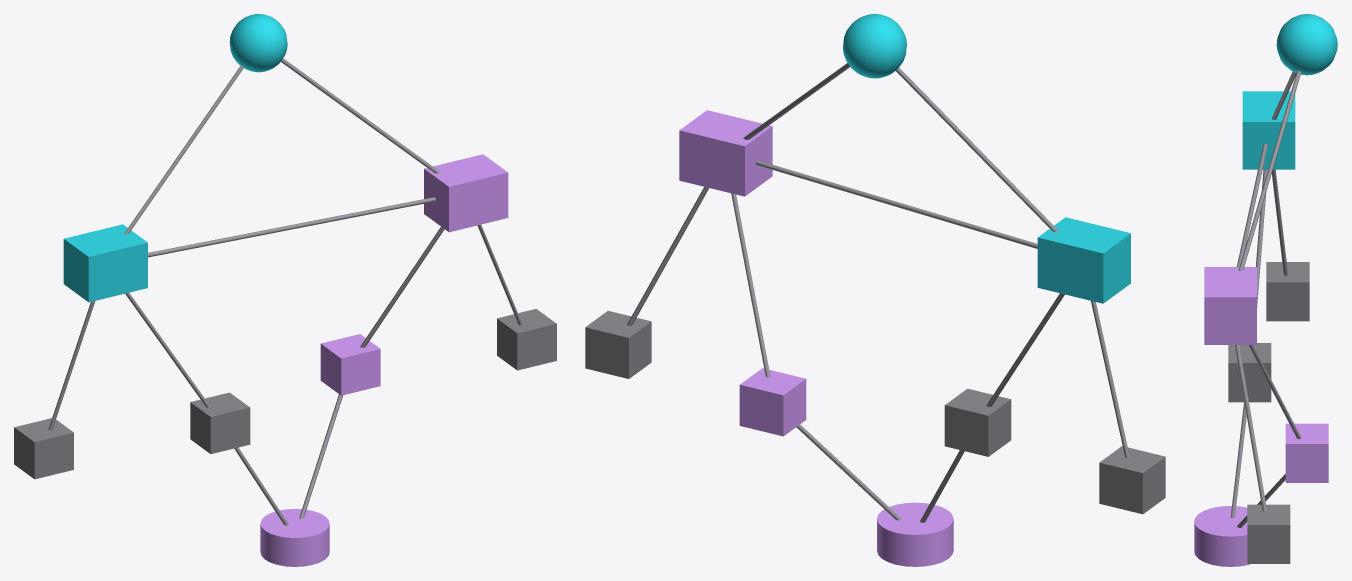
Rendered from topology.glb.
3 renders of one model, left to right at view 1: azimuth 30°, elevation 25°; view 2: azimuth 150°, elevation 25°; view 3: azimuth 270°, elevation 25°, orthographic. The views are drawn at different scales.
Parts seen in each view (by area): view 1: core-sw, hv-cluster, db, ubuntu, docker, vm-04, srv-ad, edge-fw, link-1-2, link-0-2, link-0-1, link-2-5; view 2: core-sw, hv-cluster, db, docker, ubuntu, vm-04, srv-ad, edge-fw, link-1-2, link-0-1, link-2-5, link-2-6 (+4 smaller); view 3: hv-cluster, core-sw, db, edge-fw, vm-04, srv-ad, docker, ubuntu, link-0-2, link-2-6, link-1-2, link-4-7 (+5 smaller).
Part boxes in pixels (<box>): core-sw: <box>63,224,147,302</box>; hv-cluster: <box>424,154,508,232</box>; db: <box>260,509,329,566</box>; ubuntu: <box>190,392,250,453</box>; docker: <box>320,334,380,395</box>; vm-04: <box>497,309,556,370</box>; srv-ad: <box>14,418,73,479</box>; edge-fw: <box>229,14,287,72</box>; link-1-2: <box>148,197,435,257</box>; link-0-2: <box>281,58,440,173</box>; link-0-1: <box>124,65,243,234</box>; link-2-5: <box>360,227,444,347</box>; core-sw: <box>1037,217,1130,303</box>; hv-cluster: <box>679,110,772,196</box>; db: <box>877,502,953,566</box>; docker: <box>739,368,806,436</box>; ubuntu: <box>944,388,1011,456</box>; vm-04: <box>585,311,651,378</box>; srv-ad: <box>1099,446,1165,514</box>; edge-fw: <box>843,14,906,78</box>; link-1-2: <box>755,160,1037,248</box>; link-0-1: <box>896,67,1058,231</box>; link-2-5: <box>731,193,770,377</box>; link-2-6: <box>627,187,708,325</box>; hv-cluster: <box>1204,267,1256,344</box>; core-sw: <box>1242,91,1295,169</box>; db: <box>1194,506,1250,566</box>; edge-fw: <box>1276,14,1337,75</box>; vm-04: <box>1247,504,1290,563</box>; srv-ad: <box>1266,262,1309,321</box>; docker: <box>1285,423,1328,482</box>; ubuntu: <box>1228,343,1271,402</box>; link-0-2: <box>1238,70,1301,271</box>; link-2-6: <box>1235,345,1267,511</box>; link-1-2: <box>1236,143,1267,266</box>; link-4-7: <box>1230,402,1246,518</box>.
Bounding box in the file's own units: 6.5 × 6.16 × 1.5.
